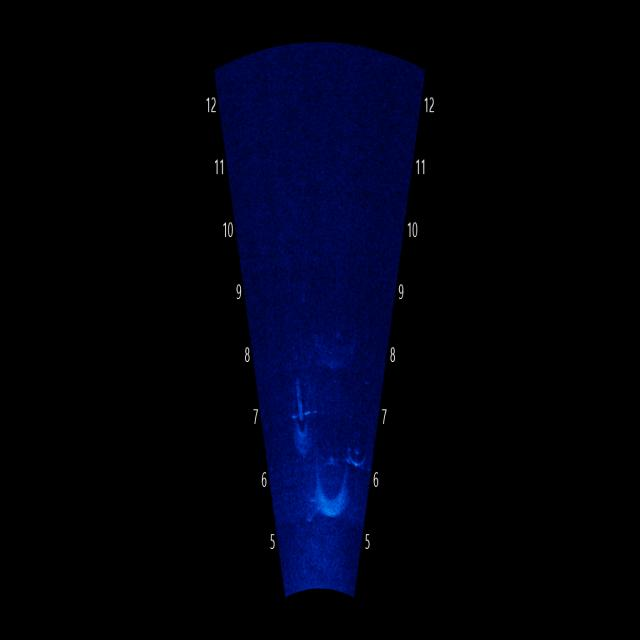circle: (310, 427, 352, 532)
